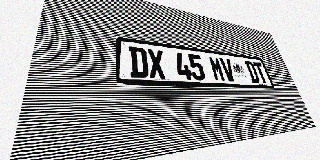4: (174, 52, 193, 80)
5: (188, 54, 206, 81)
D: (129, 46, 149, 78), (244, 61, 261, 83)
M: (208, 56, 226, 81)
T: (253, 62, 269, 83)
V: (219, 58, 237, 82)
X: (147, 48, 166, 79)
